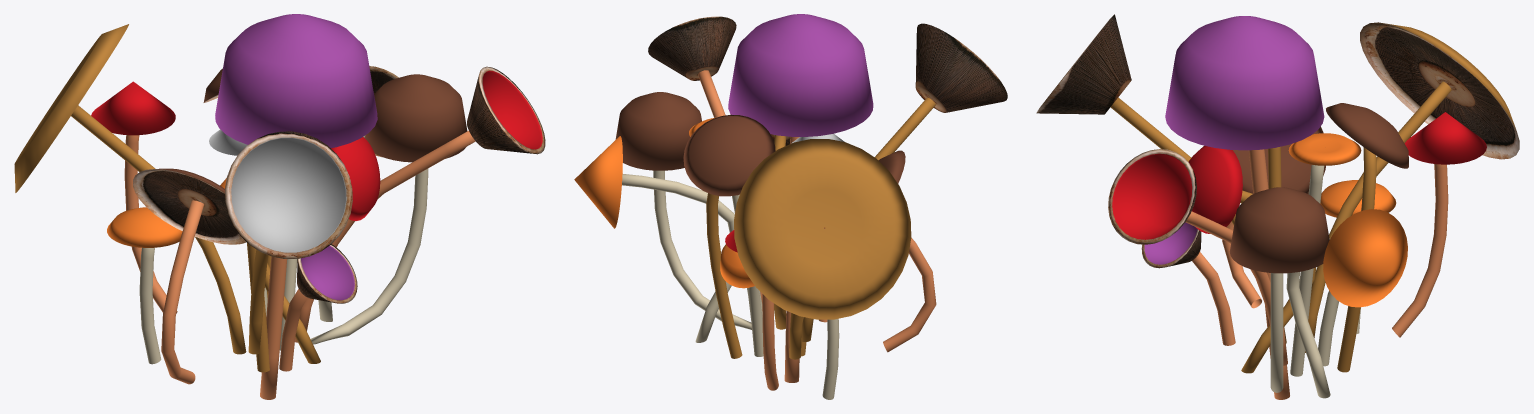
Rendered from champi_groupe.fbx.
3 views of the same model, side by side, from view 1: azimuth 30°, elevation 25°; view 2: azimuth 150°, elevation 25°; view 3: azimuth 270°, elevation 25° (orthographic). The views are drawn at different scales.
Visible parts, largest first — view 1: Cylinder_009; view 2: Cylinder_009; view 3: Cylinder_009.
Boxes of the visible parts, x1,y1,x2,y2 form: Cylinder_009: (14, 14, 545, 399); Cylinder_009: (574, 14, 1007, 399); Cylinder_009: (1036, 14, 1519, 399).
Bounding box in the file's own units: 8.81 × 8.34 × 9.48.
